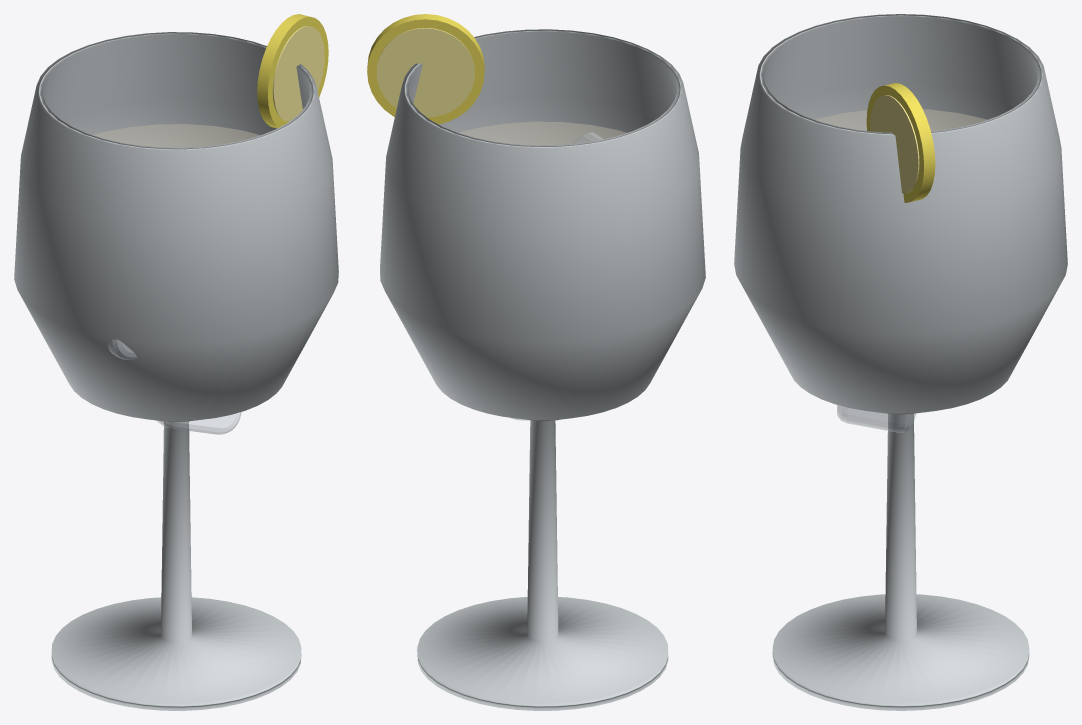
The model's file is cocktail-westbourne-strength.glb.
3 views of the same model, side by side, from view 1: azimuth 30°, elevation 25°; view 2: azimuth 150°, elevation 25°; view 3: azimuth 270°, elevation 25° (orthographic). The views are drawn at different scales.
Size of the model in its own units: 0.1124 by 0.2154 by 0.104.
